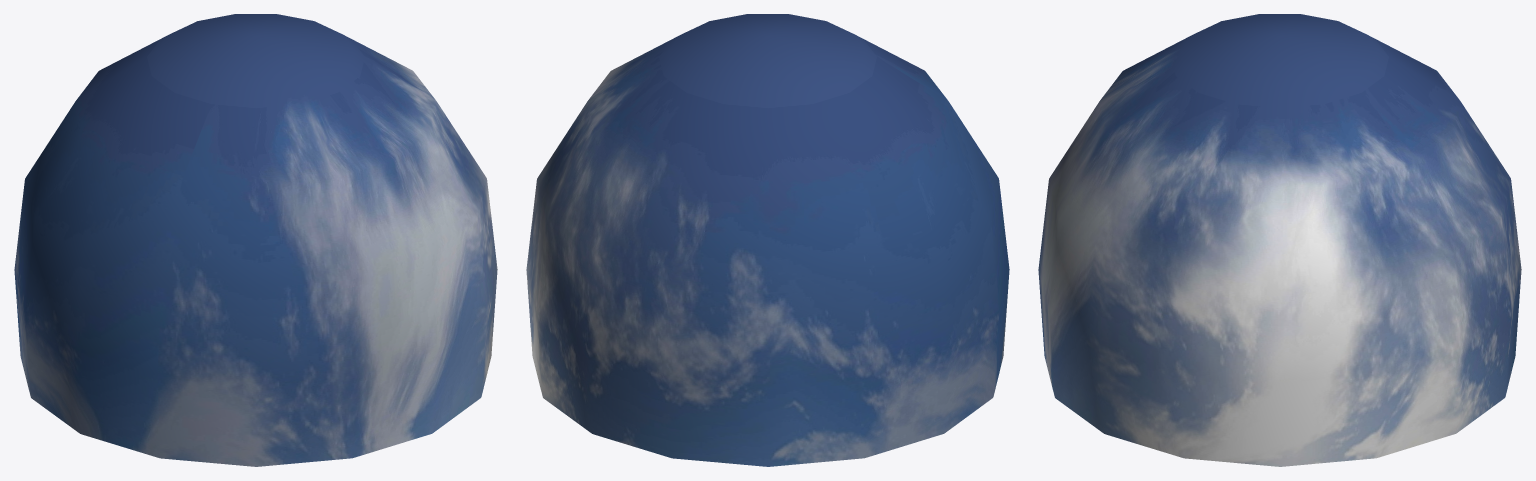
3 views of the same model, side by side, from view 1: azimuth 30°, elevation 25°; view 2: azimuth 150°, elevation 25°; view 3: azimuth 270°, elevation 25° (orthographic).
Visible parts, largest first — view 1: Mesh_0047_rip; view 2: Mesh_0047_rip; view 3: Mesh_0047_rip.
Part boxes in pixels (bbox=[...]): Mesh_0047_rip: bbox=[14, 14, 497, 466]; Mesh_0047_rip: bbox=[526, 14, 1009, 466]; Mesh_0047_rip: bbox=[1038, 14, 1521, 466].
Bounding box in the file's own units: 138 × 105 × 138.
Materials: 9 (9 with a texture image).
